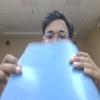notebook: (0, 39, 99, 99)
